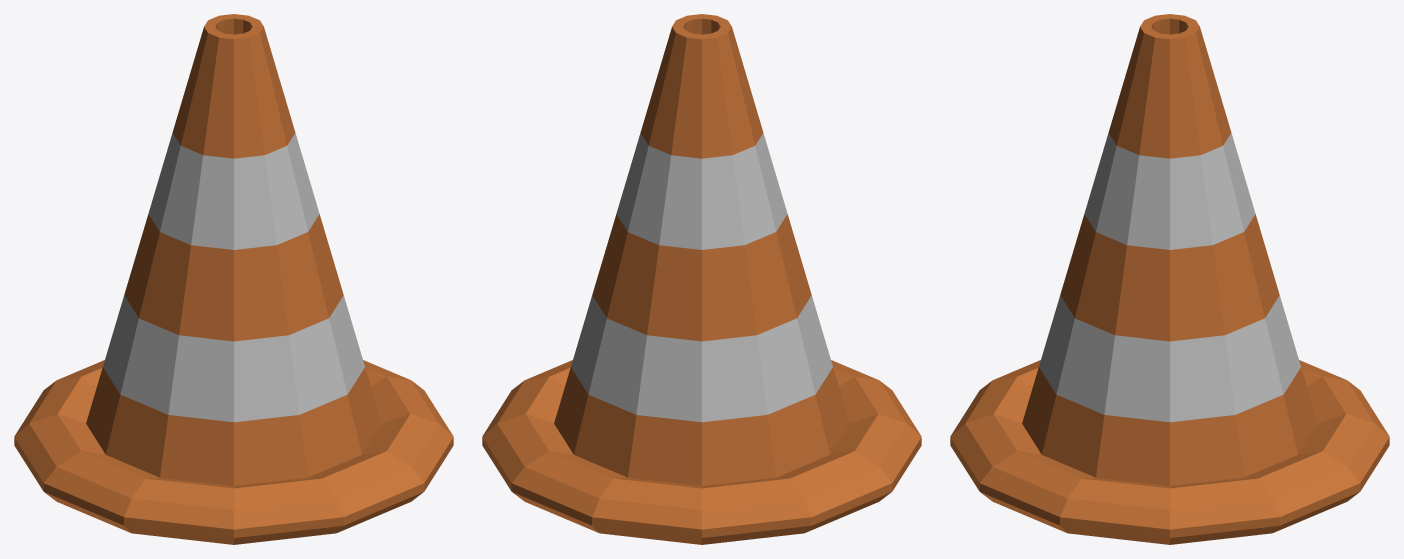
3 renders of one model, left to right at view 1: azimuth 30°, elevation 25°; view 2: azimuth 150°, elevation 25°; view 3: azimuth 270°, elevation 25°, orthographic.
Parts seen in each view (by area): view 1: Cone A; view 2: Cone A; view 3: Cone A.
Part boxes in pixels (left/top/right/bottom): Cone A: left=14, top=14, right=453, bottom=544; Cone A: left=482, top=14, right=921, bottom=544; Cone A: left=950, top=14, right=1389, bottom=544.
Bounding box in the file's own units: 0.09 × 0.0975 × 0.09.
